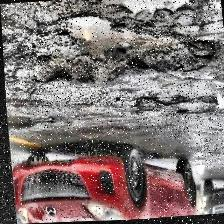pothole: (33, 0, 220, 92), (5, 110, 33, 134)
